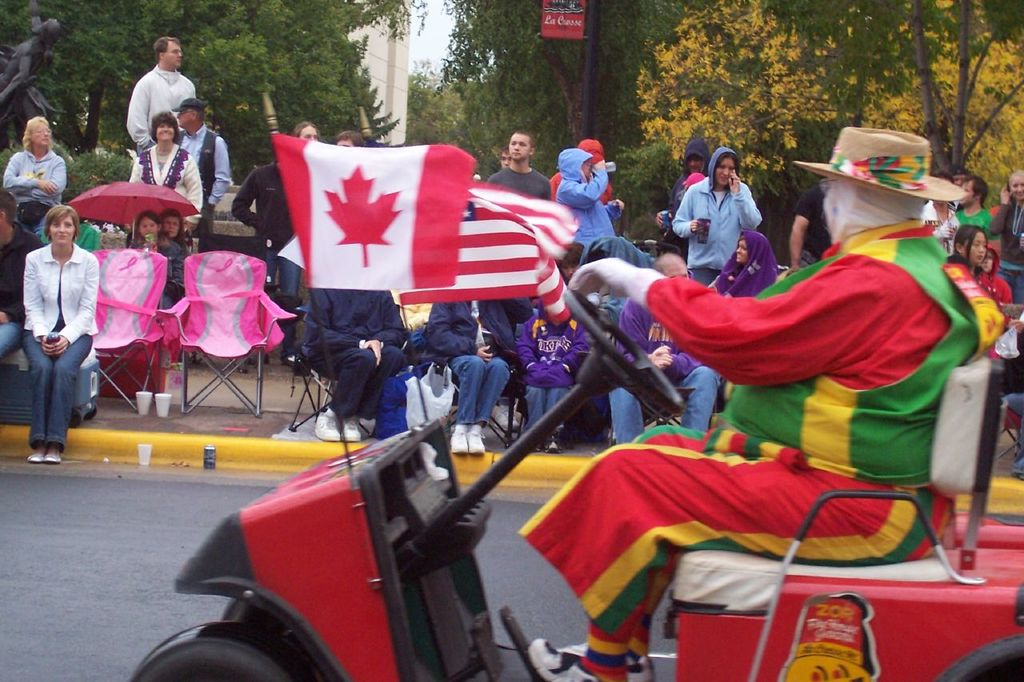Chair: (157, 250, 282, 417), (79, 246, 179, 413)
